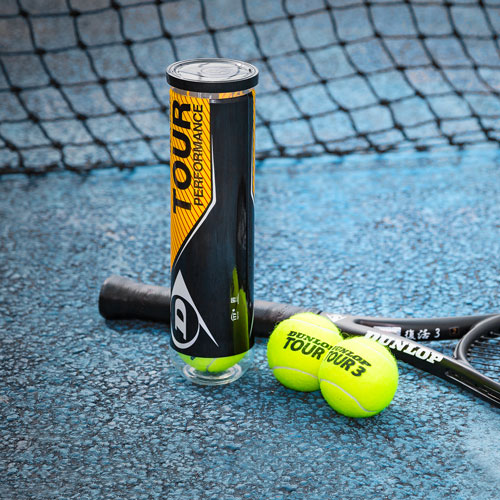tennis_ball: (320, 334, 399, 418), (267, 311, 342, 393)
